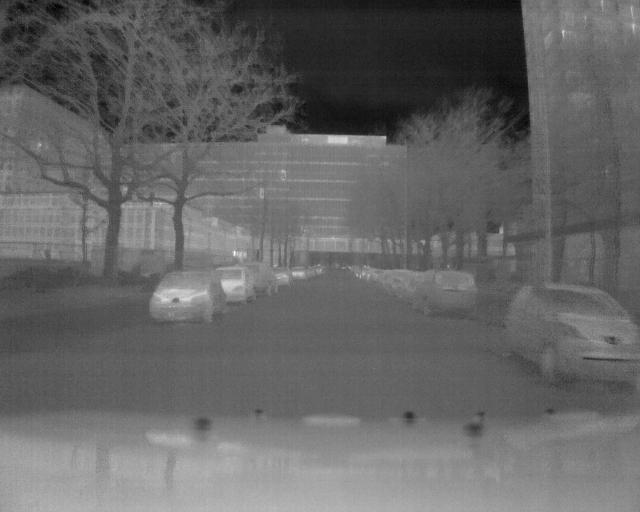car: (502, 278, 640, 389), (149, 267, 229, 324), (412, 268, 480, 318), (208, 265, 256, 304), (245, 263, 280, 295), (386, 268, 419, 296)
